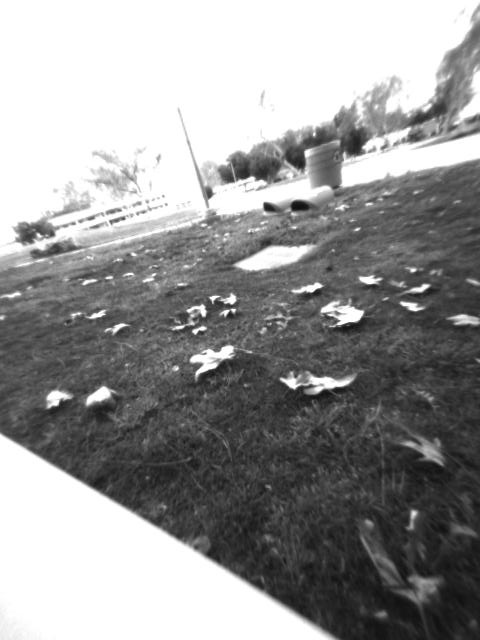trashcan: (304, 137, 345, 194)
